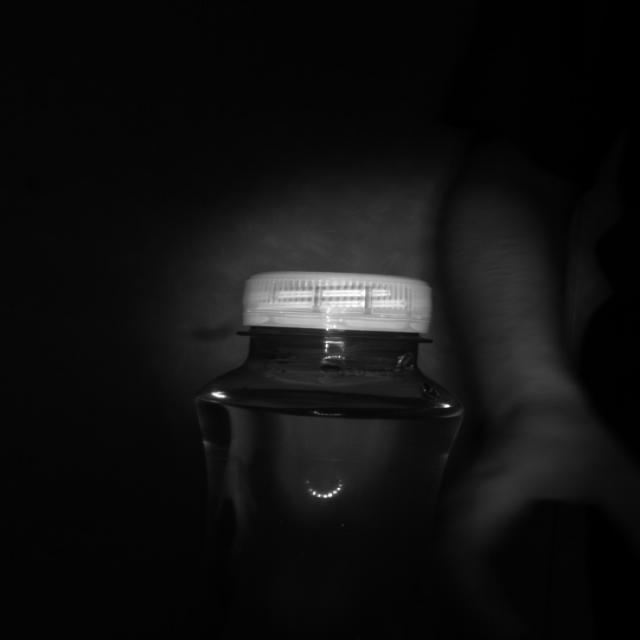Good: (237, 268, 436, 337)
